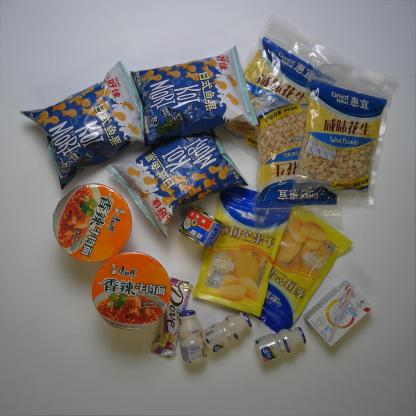Canned Food: (178, 207, 224, 248)
Chocolate: (149, 276, 193, 358)
Dried Fruit: (216, 19, 355, 161), (236, 203, 356, 337), (292, 64, 396, 198), (193, 187, 292, 317), (253, 87, 343, 226)
Instant Noodles: (51, 183, 131, 263), (91, 252, 172, 329)
Milk: (302, 280, 373, 346), (200, 309, 252, 353), (255, 328, 307, 363), (179, 308, 206, 364)
Puffed Food: (106, 120, 250, 240), (21, 60, 152, 188), (130, 43, 258, 152)
